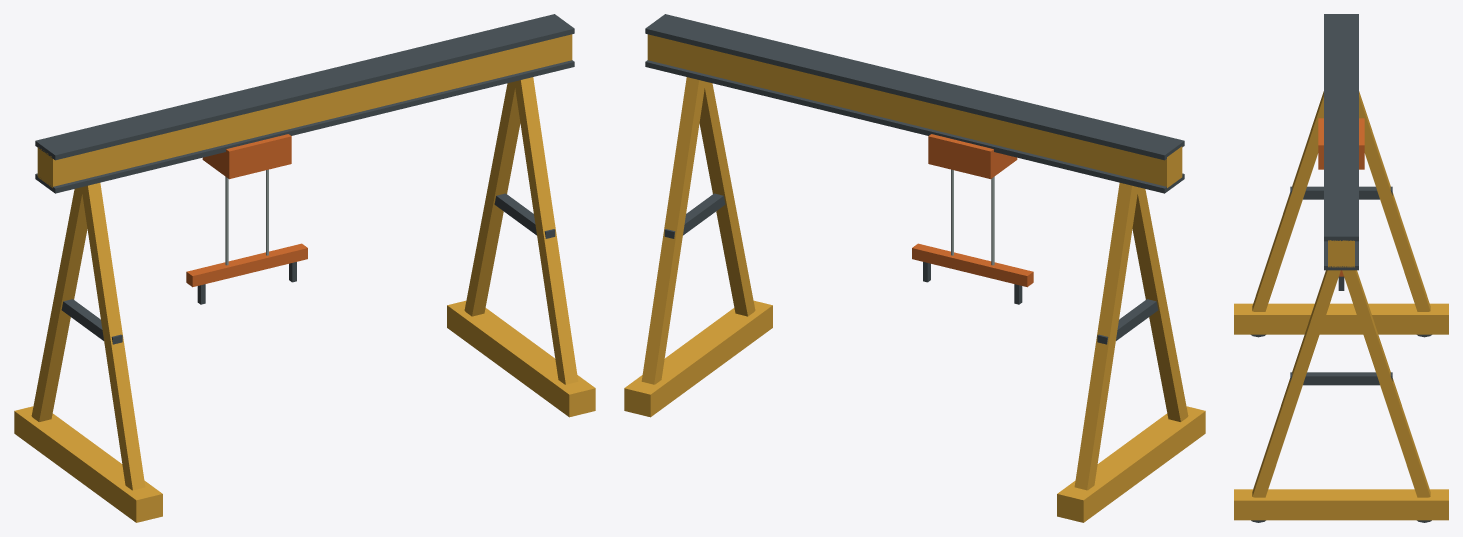
File: gantry_crane.glb
3 views of the same model, side by side, from view 1: azimuth 30°, elevation 25°; view 2: azimuth 150°, elevation 25°; view 3: azimuth 270°, elevation 25° (orthographic). The views are drawn at different scales.
Parts seen in each view (by area): view 1: gantry_crane; view 2: gantry_crane; view 3: gantry_crane.
Part boxes in pixels (box(x1,y1,x2,y2)): gantry_crane: box(14, 14, 595, 522); gantry_crane: box(624, 14, 1205, 522); gantry_crane: box(1234, 14, 1448, 522).
Bounding box in the file's own units: 10.8 × 6.83 × 4.4.
